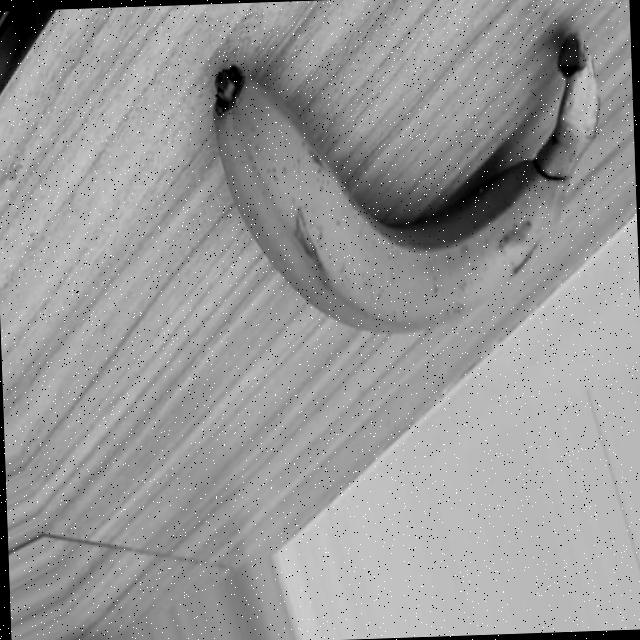Unripe: (209, 36, 609, 342)
